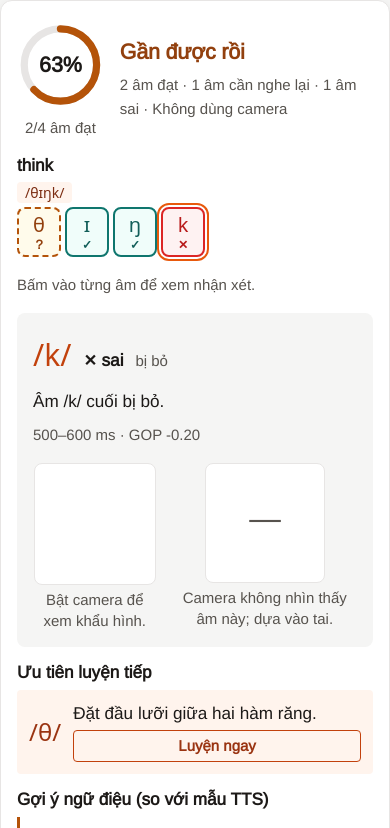
it: ResultCard › opens the phone detail with the hint, the heard sound and the mouth replay
This screenshot has width=390, height=828.
Click the button named "/θ/ nghe lại". click: (39, 232)
box: [17,207,61,257]
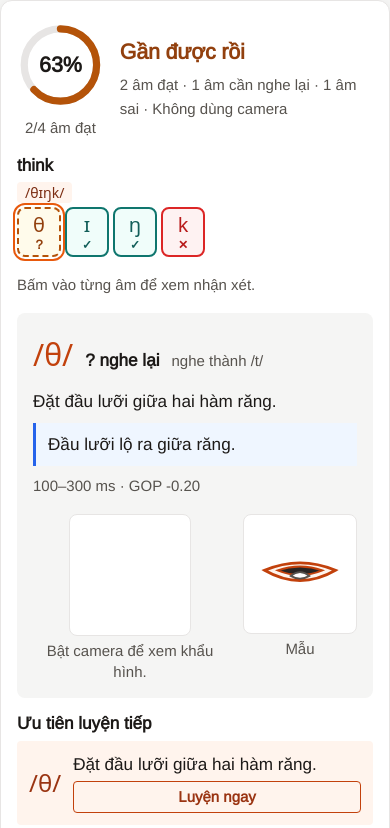
Check: the text "Đặt đầu lưỡi giữa hai hàm răng." below "nghe thành /t/" is shown, box [33,392,277,411]
Check: the text "Đầu lưỡi lộ ra giữa răng." is shown, box [33,423,357,466]
Check: the text "nghe thành /t/" is shown, box [172,349,263,373]
Click the button named "/k/ sai". click: (183, 232)
box: [161,207,205,257]
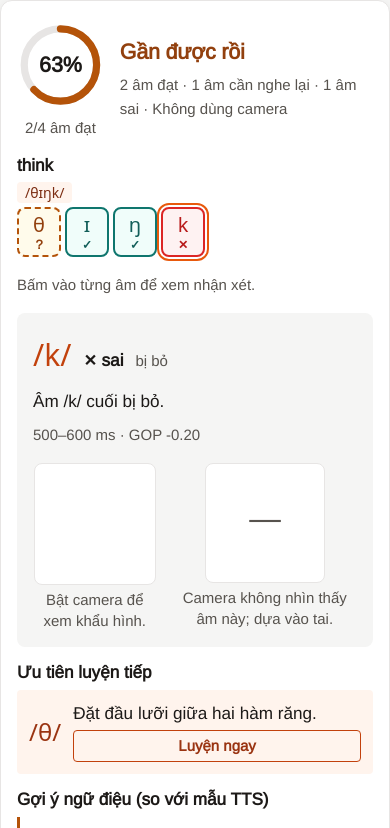
Check: the text "bị bỏ" is shown, box [136,349,168,373]
Check: the text "Camera không nhìn thấy âm này; dựa vào tai." is shown, box [172,587,357,629]
